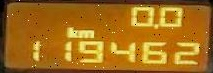-: (150, 22, 159, 29)
0: (158, 6, 182, 27), (128, 6, 153, 26)
1: (61, 40, 72, 61), (30, 39, 40, 61)
2: (172, 41, 200, 64)
4: (108, 41, 136, 62)
6: (139, 40, 166, 63)
9: (75, 39, 102, 62)
X: (64, 26, 77, 38), (77, 29, 94, 38)
